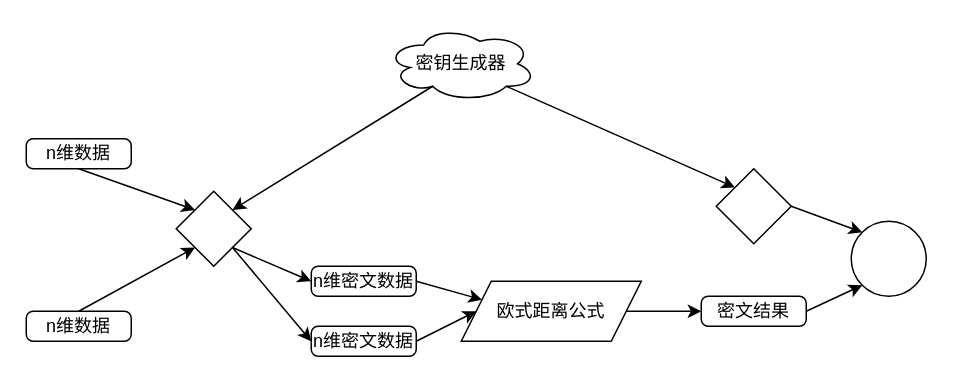
This 953x383 diagram has some shape labels left out. The shapes that lost their labels are listed below. From the top down, each one's centre as x and y in pixels, then its label:
At pixel 753 205: "私钥".
At pixel 213 228: "公钥".
At pixel 888 258: "解密结果".
